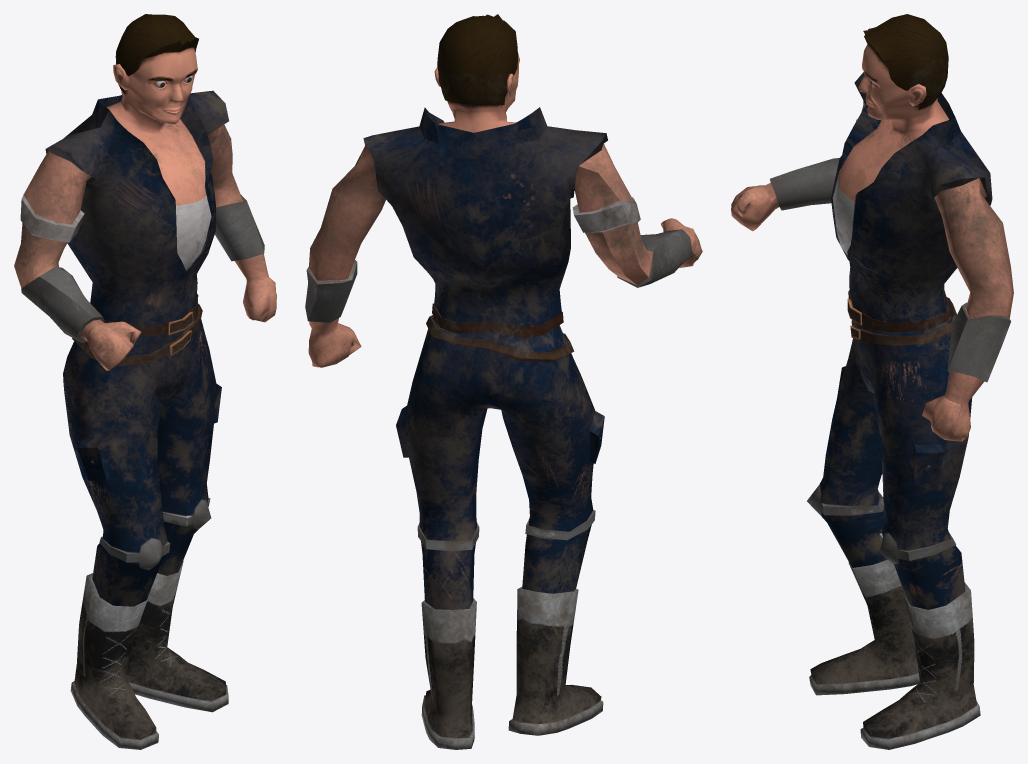
The model's file is Anim_puerta_mal_jugador.0020.obj.
The picture shows the model from 3 angles, left to right: view 1: azimuth 30°, elevation 25°; view 2: azimuth 150°, elevation 25°; view 3: azimuth 270°, elevation 25°; orthographic projection. The views are drawn at different scales.
Parts seen in each view (by area): view 1: polySurface1; view 2: polySurface1; view 3: polySurface1.
Part boxes in pixels (x1,y1,x2,y2): polySurface1: (14,14,276,749); polySurface1: (305,14,702,749); polySurface1: (731,14,1013,749).
Size of the model in its own units: 4.28 by 9.6 by 3.51.
